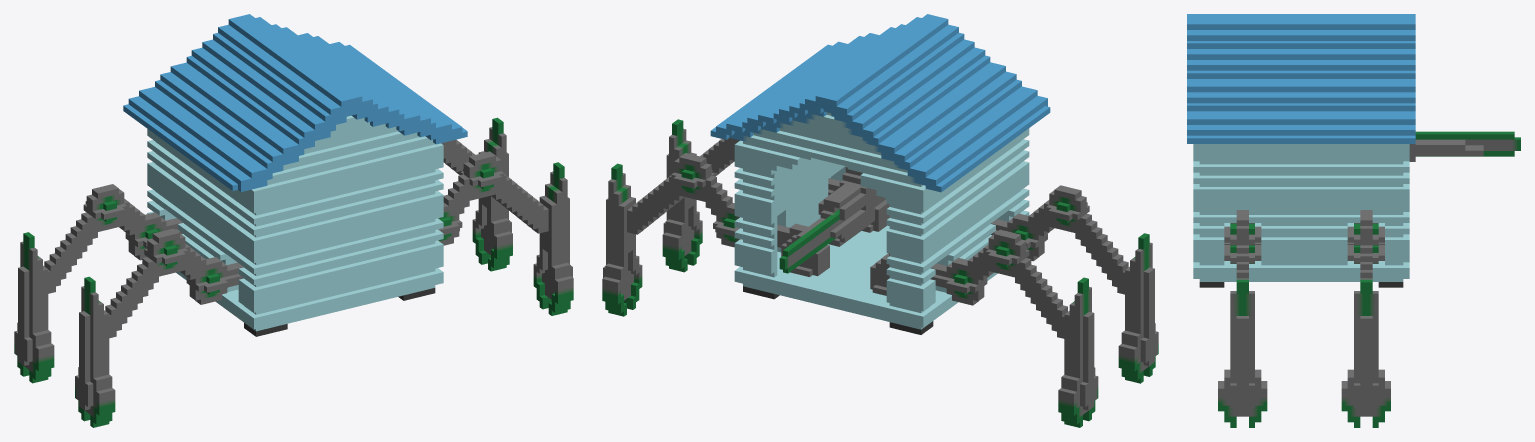
File: Character-Enemies-1-DogEasy.fbx
The picture shows the model from 3 angles, left to right: view 1: azimuth 30°, elevation 25°; view 2: azimuth 150°, elevation 25°; view 3: azimuth 270°, elevation 25°; orthographic projection. The views are drawn at different scales.
Parts seen in each view (by area): view 1: DogEasy; view 2: DogEasy; view 3: DogEasy.
Part boxes in pixels (x1,y1,x2,y2): DogEasy: (14,14,573,427); DogEasy: (602,14,1158,427); DogEasy: (1187,14,1520,427).
Bounding box in the file's own units: 92 × 52 × 54.
